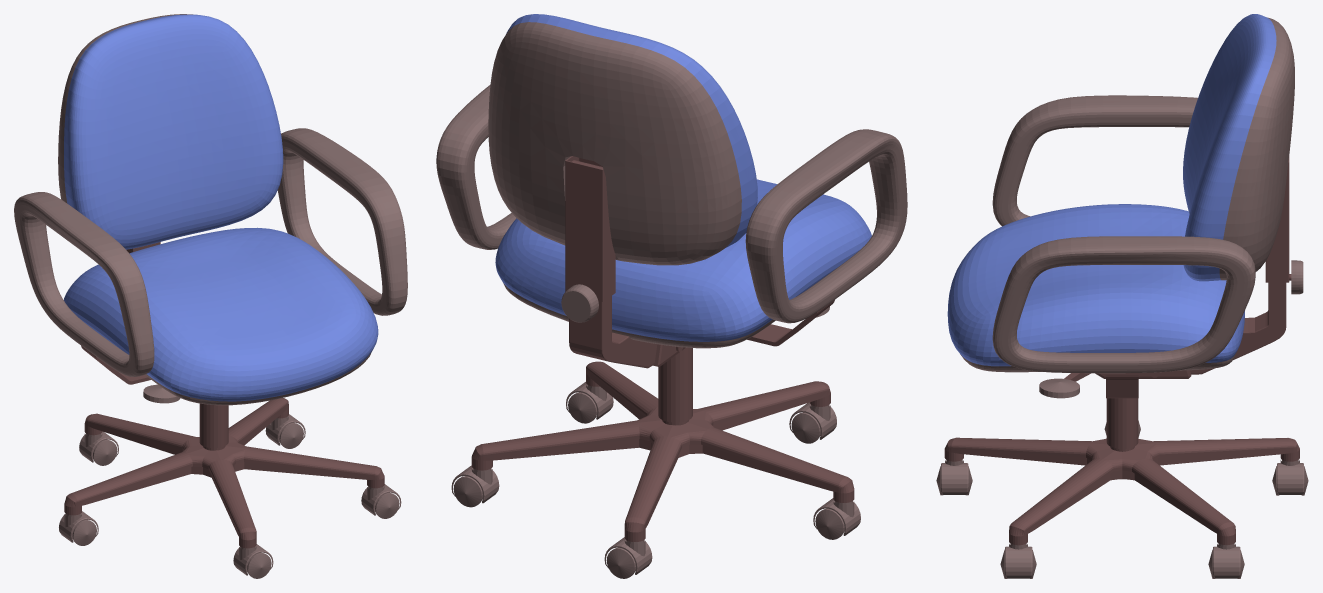
Rendered from sweethome3d-katorlegaz-chair-71.glb.
3 views of the same model, side by side, from view 1: azimuth 30°, elevation 25°; view 2: azimuth 150°, elevation 25°; view 3: azimuth 270°, elevation 25° (orthographic). The views are drawn at different scales.
Parts seen in each view (by area): view 1: Office_CH_back_Office_CH_back_Office_CH_fabric, Office_CH_seat_Office_CH_seat_Office_CH_fabric, Office_CH_arms, Office_CH_base, Office_CH_wheels, Office_CH_post, Office_CH_back_Office_CH_back_Office_CH_plastic, Office_CH_seat_Office_CH_seat_Office_CH_plastic; view 2: Office_CH_back_Office_CH_back_Office_CH_plastic, Office_CH_seat_Office_CH_seat_Office_CH_fabric, Office_CH_arms, Office_CH_base, Office_CH_back_post, Office_CH_wheels, Office_CH_back_Office_CH_back_Office_CH_fabric, Office_CH_post, Office_CH_seat_Office_CH_seat_Office_CH_plastic, Office_CH_mount, Office_CH_knobs_Office_CH_knobs_Office_CH_plastic; view 3: Office_CH_seat_Office_CH_seat_Office_CH_fabric, Office_CH_arms, Office_CH_base, Office_CH_back_Office_CH_back_Office_CH_fabric, Office_CH_back_Office_CH_back_Office_CH_plastic, Office_CH_wheels, Office_CH_back_post, Office_CH_post, Office_CH_mount, Office_CH_knobs_Office_CH_knobs_Office_CH_plastic, Office_CH_seat_Office_CH_seat_Office_CH_plastic.
Part boxes in pixels (x1,y1,x2,y2): Office_CH_back_Office_CH_back_Office_CH_fabric: (64, 14, 283, 249); Office_CH_seat_Office_CH_seat_Office_CH_fabric: (64, 227, 378, 401); Office_CH_arms: (14, 128, 407, 376); Office_CH_base: (64, 398, 384, 548); Office_CH_wheels: (59, 414, 401, 578); Office_CH_post: (199, 403, 228, 450); Office_CH_back_Office_CH_back_Office_CH_plastic: (58, 14, 192, 203); Office_CH_seat_Office_CH_seat_Office_CH_plastic: (145, 352, 371, 405); Office_CH_back_Office_CH_back_Office_CH_plastic: (488, 22, 741, 265); Office_CH_seat_Office_CH_seat_Office_CH_fabric: (495, 179, 871, 341); Office_CH_arms: (436, 85, 907, 323); Office_CH_base: (471, 361, 854, 541); Office_CH_back_post: (565, 156, 657, 368); Office_CH_wheels: (451, 382, 860, 578); Office_CH_back_Office_CH_back_Office_CH_fabric: (506, 14, 757, 247); Office_CH_post: (658, 347, 692, 425); Office_CH_seat_Office_CH_seat_Office_CH_plastic: (503, 283, 775, 348); Office_CH_mount: (653, 300, 834, 366); Office_CH_knobs_Office_CH_knobs_Office_CH_plastic: (561, 284, 829, 322); Office_CH_seat_Office_CH_seat_Office_CH_fabric: (947, 204, 1244, 366); Office_CH_arms: (992, 95, 1255, 373); Office_CH_base: (944, 437, 1299, 545); Office_CH_back_Office_CH_back_Office_CH_fabric: (1183, 14, 1276, 281); Office_CH_back_Office_CH_back_Office_CH_plastic: (1219, 17, 1294, 280); Office_CH_wheels: (936, 420, 1308, 578); Office_CH_back_post: (1190, 156, 1289, 374); Office_CH_post: (1106, 398, 1138, 479); Office_CH_mount: (1095, 370, 1191, 398); Office_CH_knobs_Office_CH_knobs_Office_CH_plastic: (1039, 260, 1303, 398); Office_CH_seat_Office_CH_seat_Office_CH_plastic: (960, 354, 1235, 372).
Bounding box in the file's own units: 8.41 × 11.88 × 8.41.
